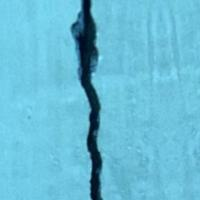crack: (55, 0, 131, 199)
